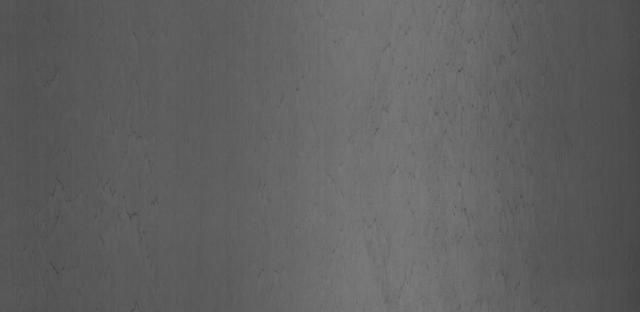silk_spot: (366, 43, 507, 188), (109, 150, 192, 244)
